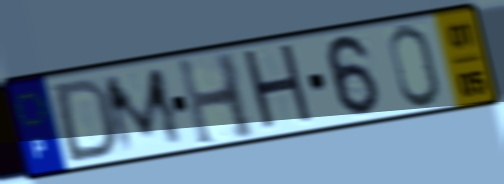0: (385, 21, 444, 111)
6: (323, 31, 384, 121)
D: (51, 75, 119, 166)
H: (173, 49, 260, 149), (239, 40, 319, 136)
M: (99, 64, 188, 157)
